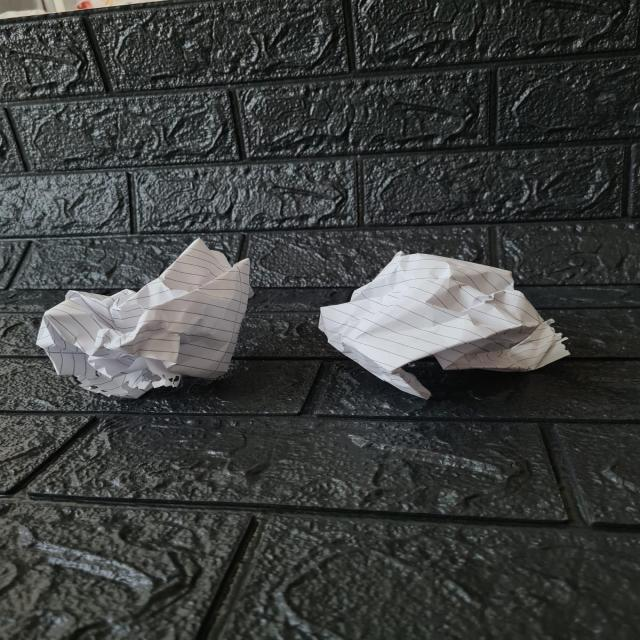trash: (36, 232, 262, 398), (328, 252, 562, 396)
